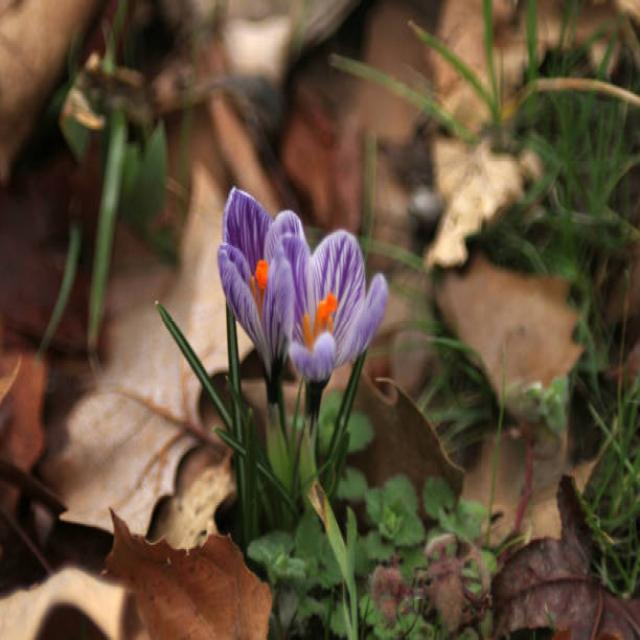saffron open: (282, 221, 388, 416), (218, 188, 303, 404)
